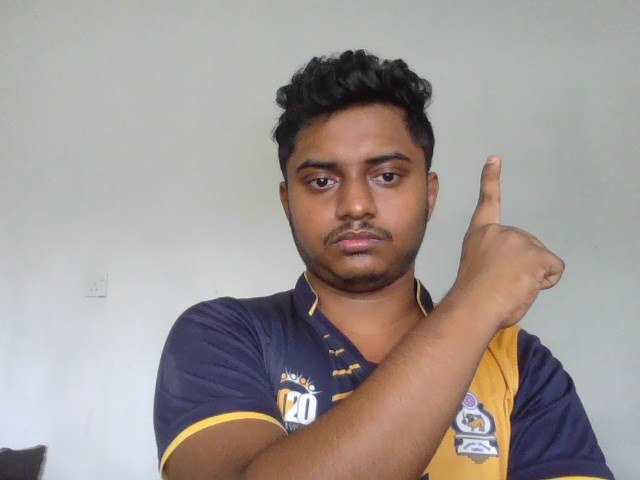Me: (454, 155, 568, 330)
